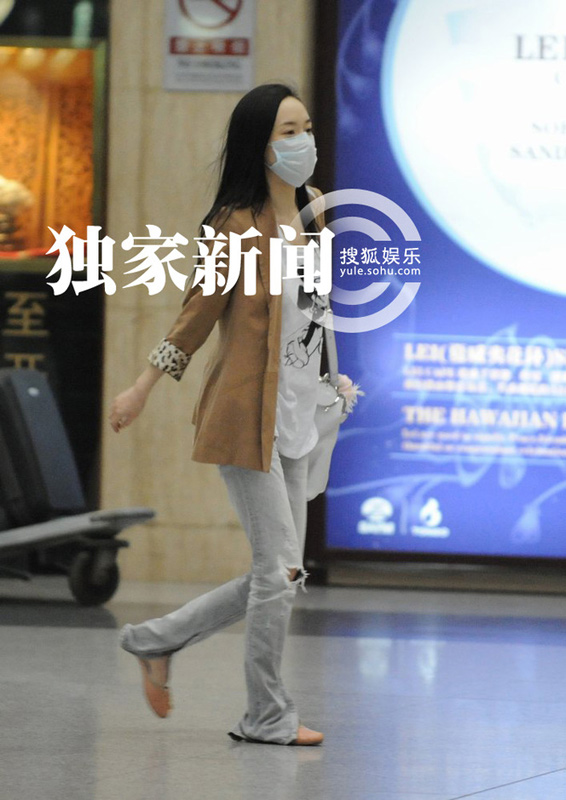face_mask: (268, 97, 314, 185)
